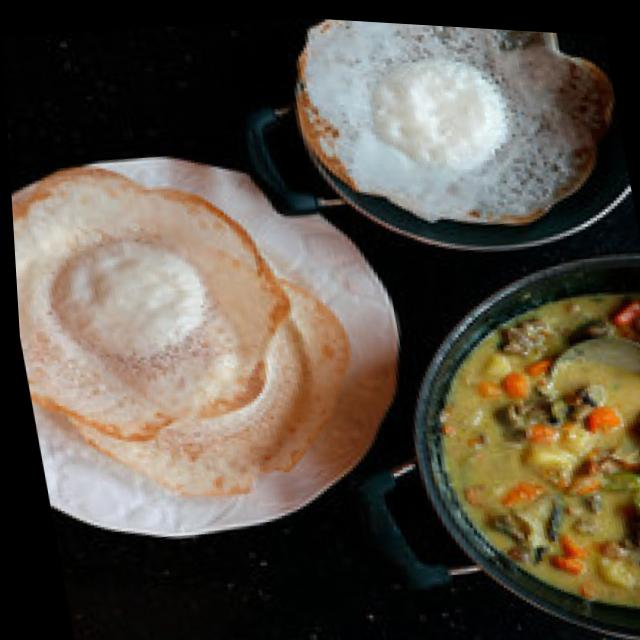AAPAM: (12, 168, 346, 491), (296, 19, 611, 220)
CURRY: (414, 264, 640, 632)
